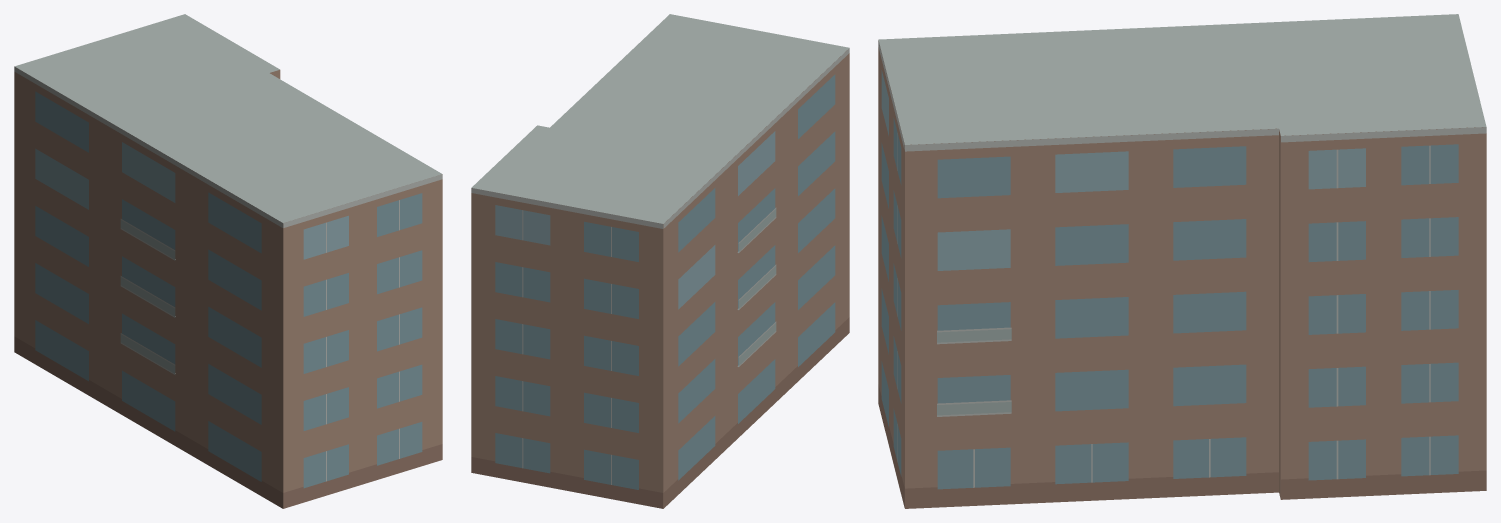
The model's file is survey-upis-32745926.glb.
The picture shows the model from 3 angles, left to right: view 1: azimuth 30°, elevation 25°; view 2: azimuth 150°, elevation 25°; view 3: azimuth 270°, elevation 25°; orthographic projection. The views are drawn at different scales.
Parts seen in each view (by area): view 1: survey-upis-32745926.tmp; view 2: survey-upis-32745926.tmp; view 3: survey-upis-32745926.tmp.
Boxes of the visible parts, bbox=[...] form: survey-upis-32745926.tmp: bbox=[14, 14, 442, 508]; survey-upis-32745926.tmp: bbox=[471, 14, 849, 508]; survey-upis-32745926.tmp: bbox=[878, 14, 1486, 508].
Bounding box in the file's own units: 10.47 × 13.55 × 20.54.
